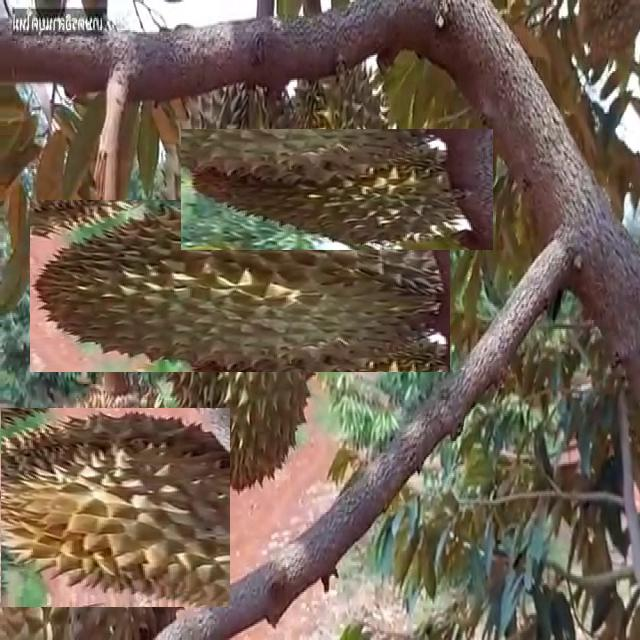durian: (91, 138, 388, 434), (0, 393, 216, 622), (228, 80, 446, 298)
